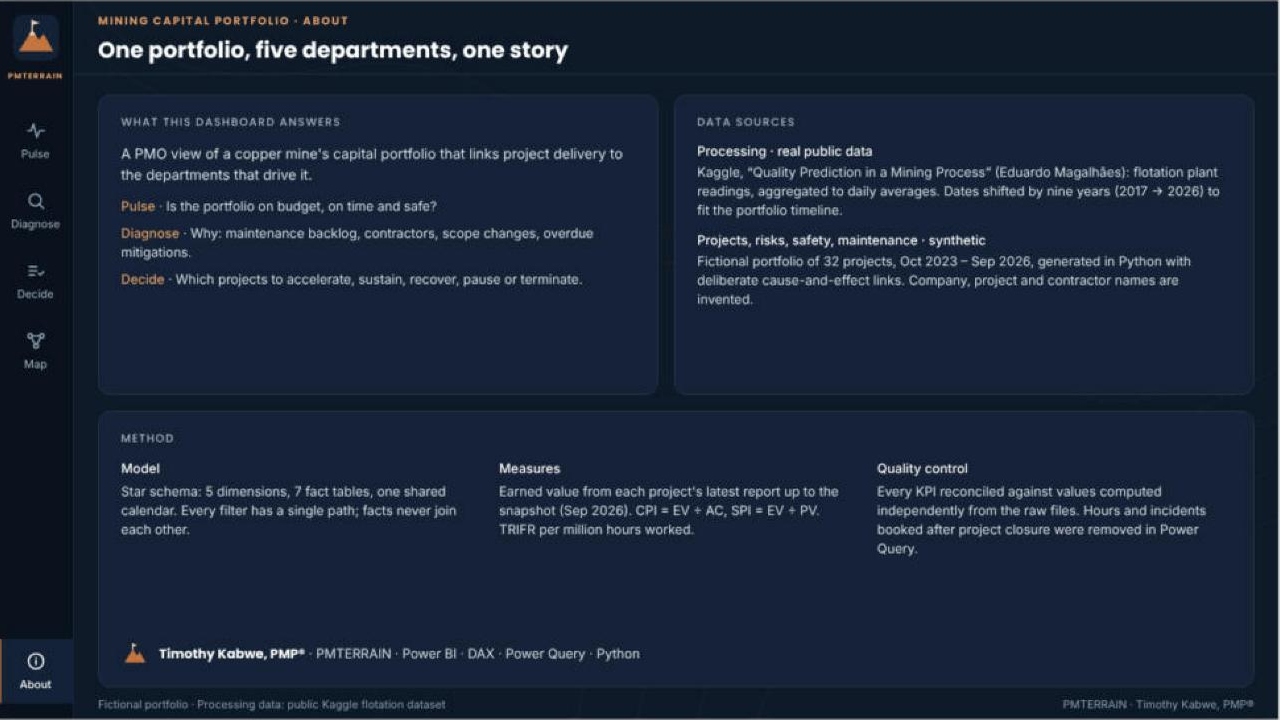

What the dashboard file says about the page in this screenshot:
{"tool":"powerbi","page":{"name":"About","canvas":[1280,720],"ordinal":3},"visuals":[{"type":"actionButton","box":[0,110,76,64],"z":0},{"type":"actionButton","box":[0,180,76,64],"z":1000},{"type":"actionButton","box":[0,250,76,64],"z":2000},{"type":"actionButton","box":[0,640,76,64],"z":3000},{"type":"actionButton","box":[0,320,76,64],"z":4000}]}

Visuals, with their boxes on the page's 1280x720 design canvas (x1, y1, x2, y2). These are canvas units, not pixel positions in the 1280x720 screenshot, which may show the page scaled, cropped or inside an application window:
actionButton: select_region(0, 110, 76, 174)
actionButton: select_region(0, 180, 76, 244)
actionButton: select_region(0, 250, 76, 314)
actionButton: select_region(0, 640, 76, 704)
actionButton: select_region(0, 320, 76, 384)
